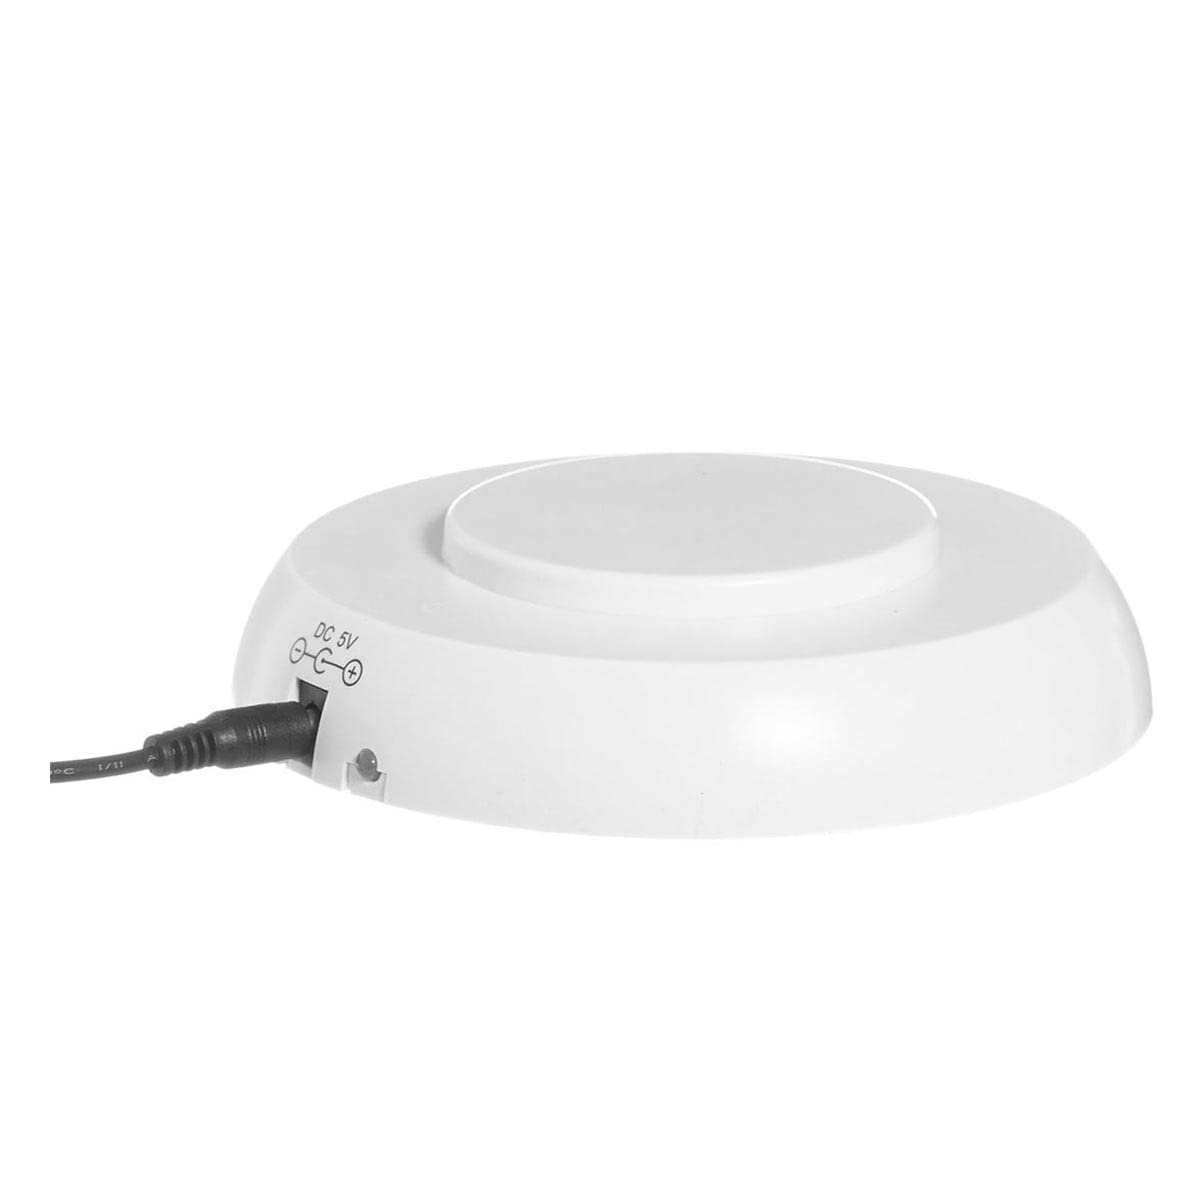x: (314, 622, 335, 641)
